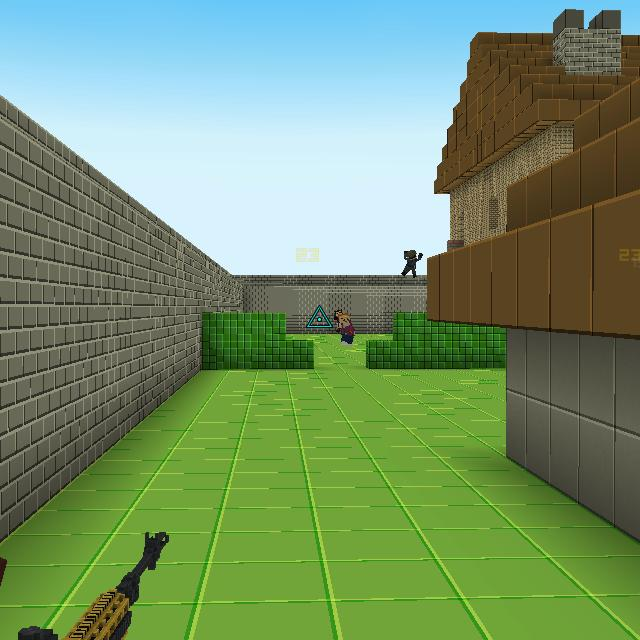enemy: (338, 314, 356, 346)
